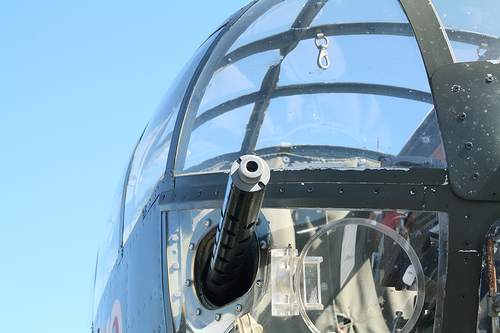rifle: (195, 156, 280, 292)
